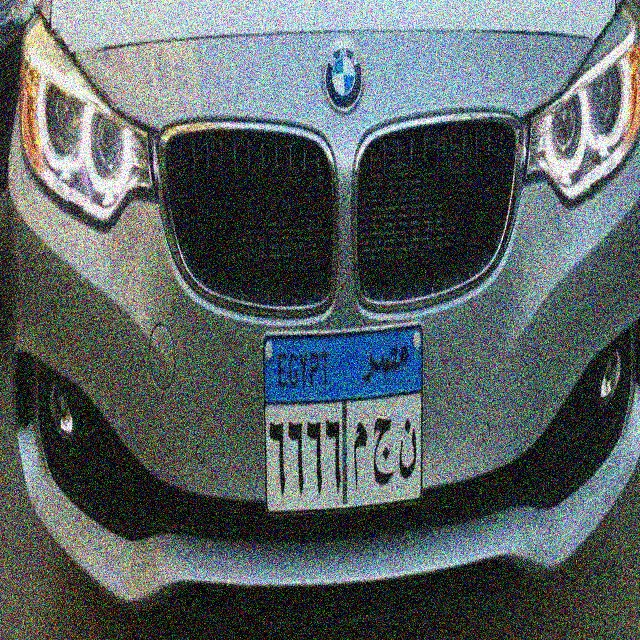License Plate: (260, 320, 425, 521)
